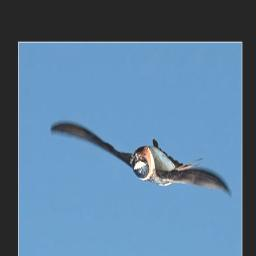Swallow: (49, 123, 230, 202)
